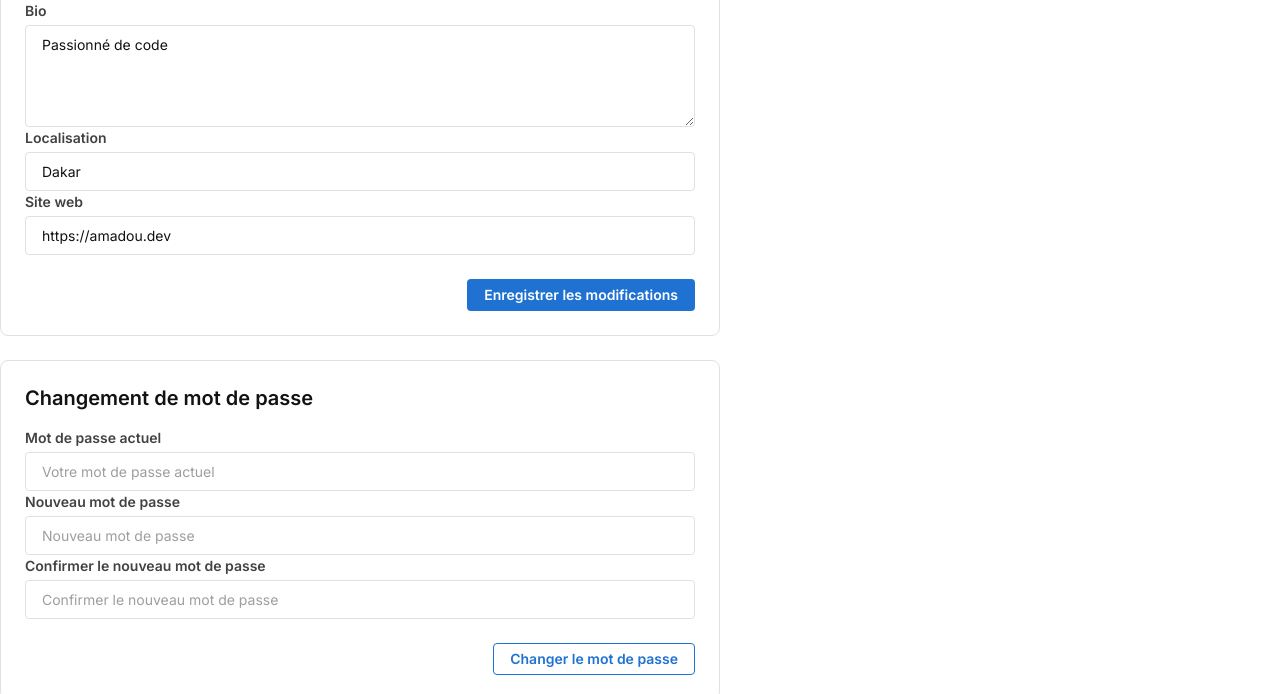
Test: ProfileEditComponent › should change the password and reset the password form
The image size is (1280, 694).
(page scrolled)
Type "student123" into the password field labelled "Mot de passe actuel" at (360,472), box [25,452,695,491]
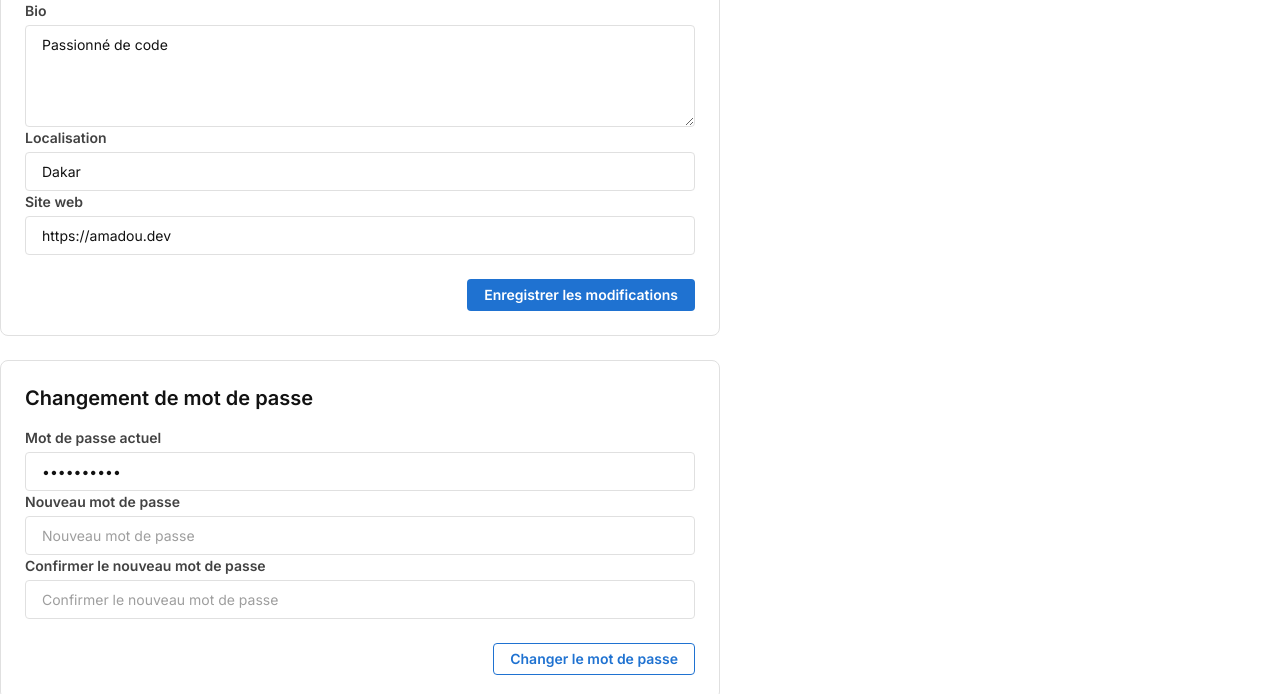
Type "nouveau123" into the password field with placeholder "Nouveau mot de passe" at (360,536), box [25,516,695,555]
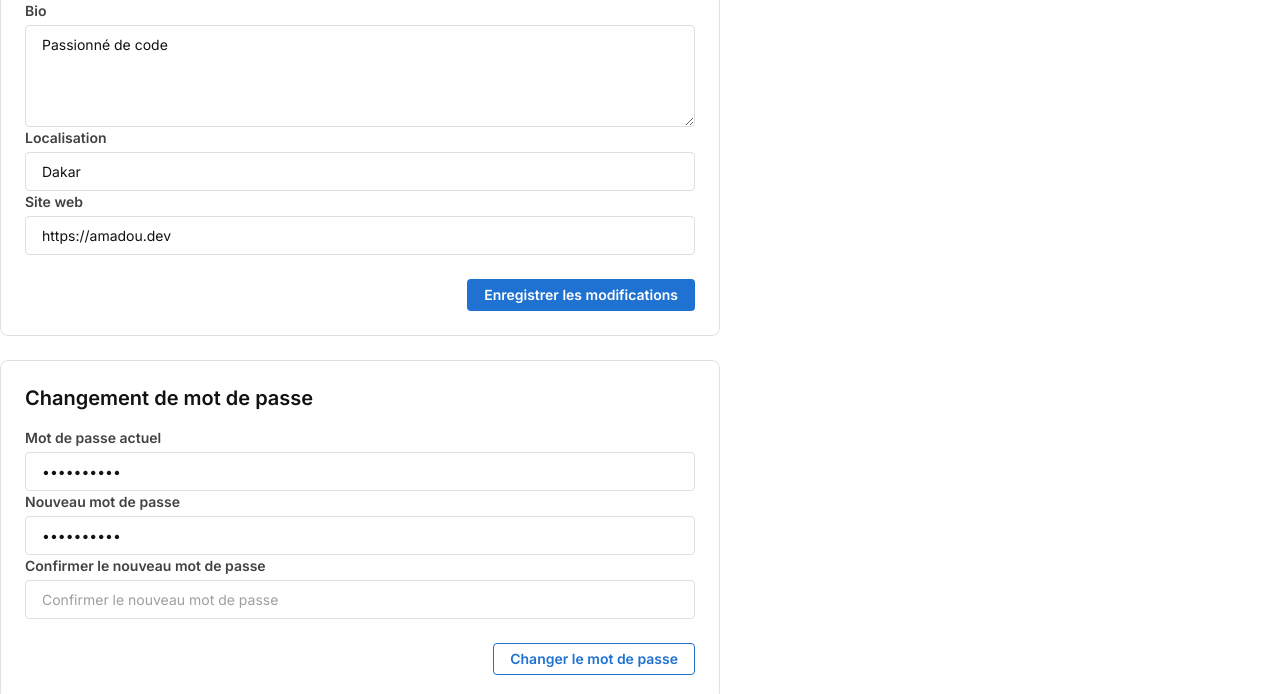
Type "nouveau123" into the password field with placeholder "Confirmer le nouveau mot de passe" at (360,600), box [25,580,695,619]
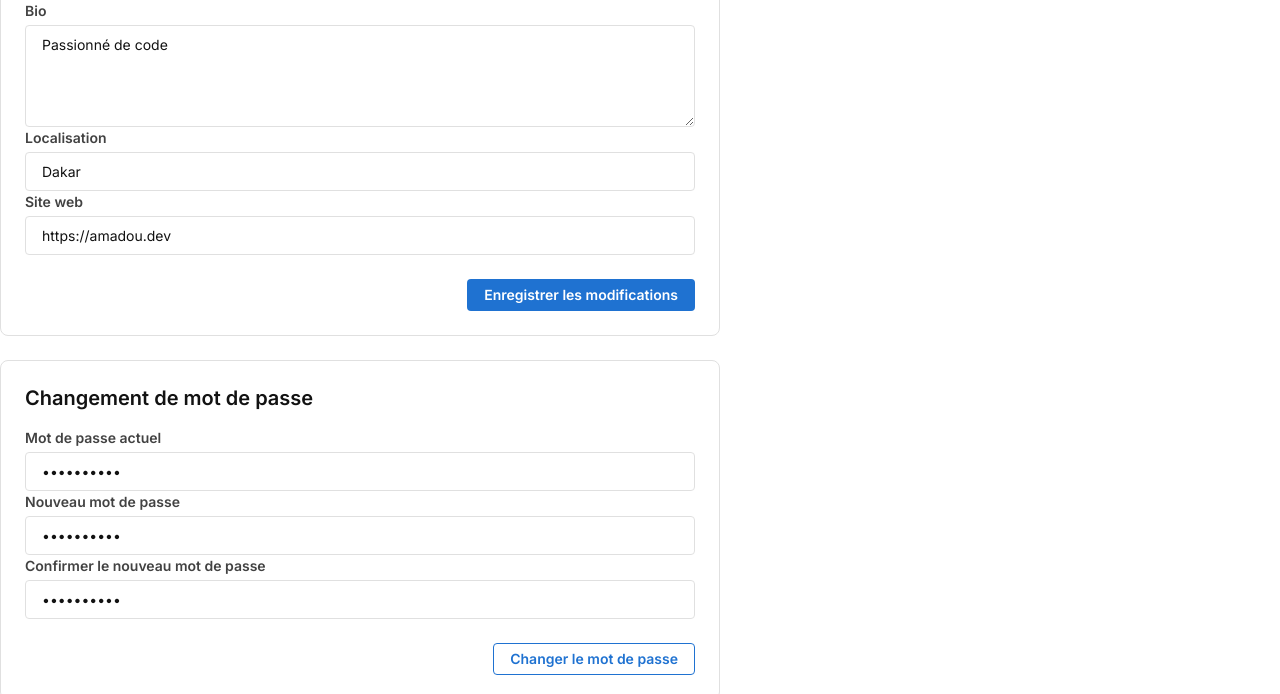
Click the button "Changer le mot de passe" at (594,659), box [493,643,695,675]
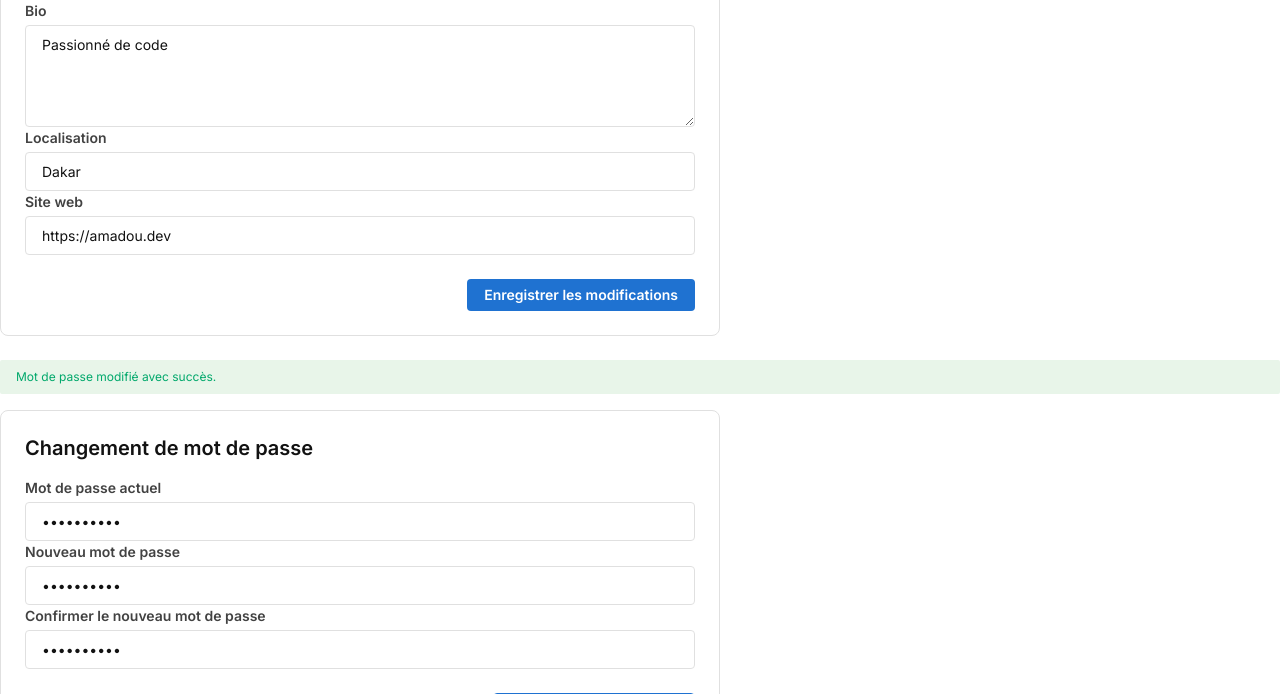
Check: the text "Mot de passe modifié avec succès." is shown, box [16,369,216,384]
